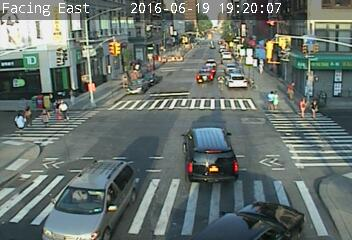neg: (13, 28, 35, 57), (90, 148, 112, 176), (301, 169, 321, 195), (212, 70, 230, 93), (180, 14, 198, 37), (158, 132, 175, 154), (202, 162, 219, 184), (255, 28, 271, 50), (57, 18, 72, 38), (107, 95, 122, 114), (317, 29, 331, 48), (71, 23, 84, 39), (109, 33, 120, 49), (251, 193, 262, 208), (272, 144, 283, 158), (204, 114, 214, 128), (141, 107, 149, 118)
pos: (261, 85, 283, 115), (281, 77, 300, 103), (33, 105, 52, 130), (56, 96, 73, 119), (305, 95, 322, 117), (12, 111, 28, 133), (294, 95, 310, 117), (23, 104, 36, 122)
